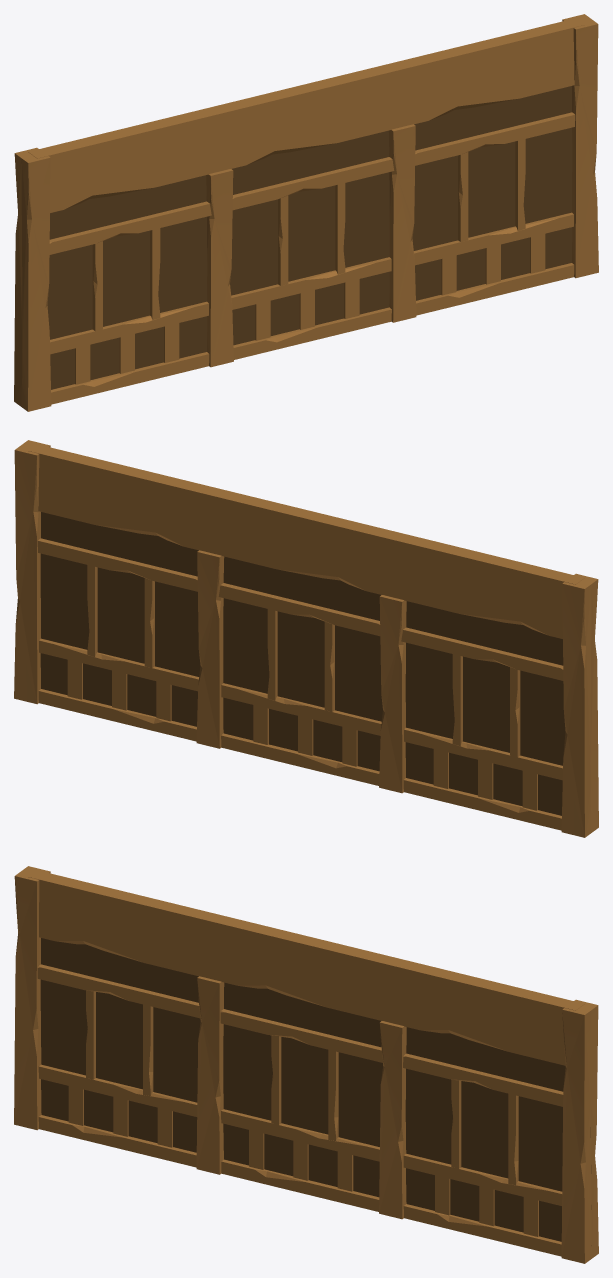
File: wall.fbx
3 renders of one model, top to bottom at view 1: azimuth 30°, elevation 25°; view 2: azimuth 150°, elevation 25°; view 3: azimuth 330°, elevation 25°, orthographic.
Parts seen in each view (by area): view 1: wall; view 2: wall; view 3: wall.
Part boxes in pixels (x1=…): wall: x1=14, y1=14, x2=598, y2=411; wall: x1=14, y1=440, x2=598, y2=837; wall: x1=14, y1=866, x2=598, y2=1263.
Size of the model in its own units: 782 by 326 by 33.46.
